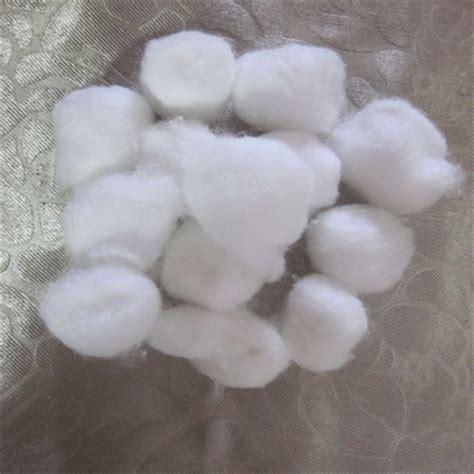cotton: (139, 108, 305, 272), (331, 96, 465, 215), (141, 297, 293, 392), (55, 172, 186, 272), (37, 256, 162, 358), (155, 217, 272, 316), (230, 44, 348, 136), (49, 84, 151, 189), (305, 199, 415, 296), (142, 27, 236, 121), (282, 272, 367, 372), (250, 118, 341, 208)
